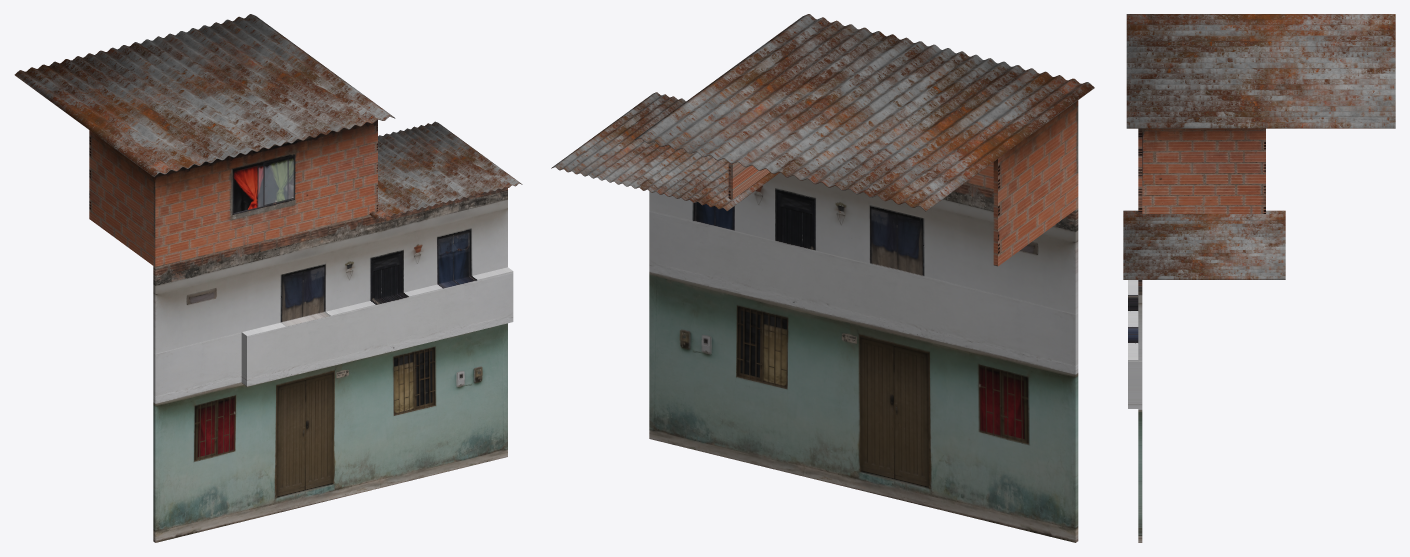
File: casa_derecha_05S.fbx
3 views of the same model, side by side, from view 1: azimuth 30°, elevation 25°; view 2: azimuth 150°, elevation 25°; view 3: azimuth 270°, elevation 25° (orthographic). The views are drawn at different scales.
Parts seen in each view (by area): view 1: casa_derecha_05S.001, CorrigatedPanel-2x2.001, CorrigatedPanel-2x2.002; view 2: casa_derecha_05S.001, CorrigatedPanel-2x2.001, CorrigatedPanel-2x2.002; view 3: CorrigatedPanel-2x2.001, casa_derecha_05S.001, CorrigatedPanel-2x2.002.
Boxes of the visible parts, left/top/right/bottom form: casa_derecha_05S.001: left=89, top=120, right=513, bottom=542; CorrigatedPanel-2x2.001: left=14, top=14, right=395, bottom=177; CorrigatedPanel-2x2.002: left=369, top=121, right=522, bottom=219; casa_derecha_05S.001: left=649, top=100, right=1078, bottom=542; CorrigatedPanel-2x2.001: left=634, top=14, right=1094, bottom=211; CorrigatedPanel-2x2.002: left=551, top=92, right=779, bottom=211; CorrigatedPanel-2x2.001: left=1126, top=14, right=1395, bottom=128; casa_derecha_05S.001: left=1128, top=128, right=1265, bottom=542; CorrigatedPanel-2x2.002: left=1123, top=210, right=1285, bottom=279.
Bounding box in the file's own units: 767 × 750 × 511.
